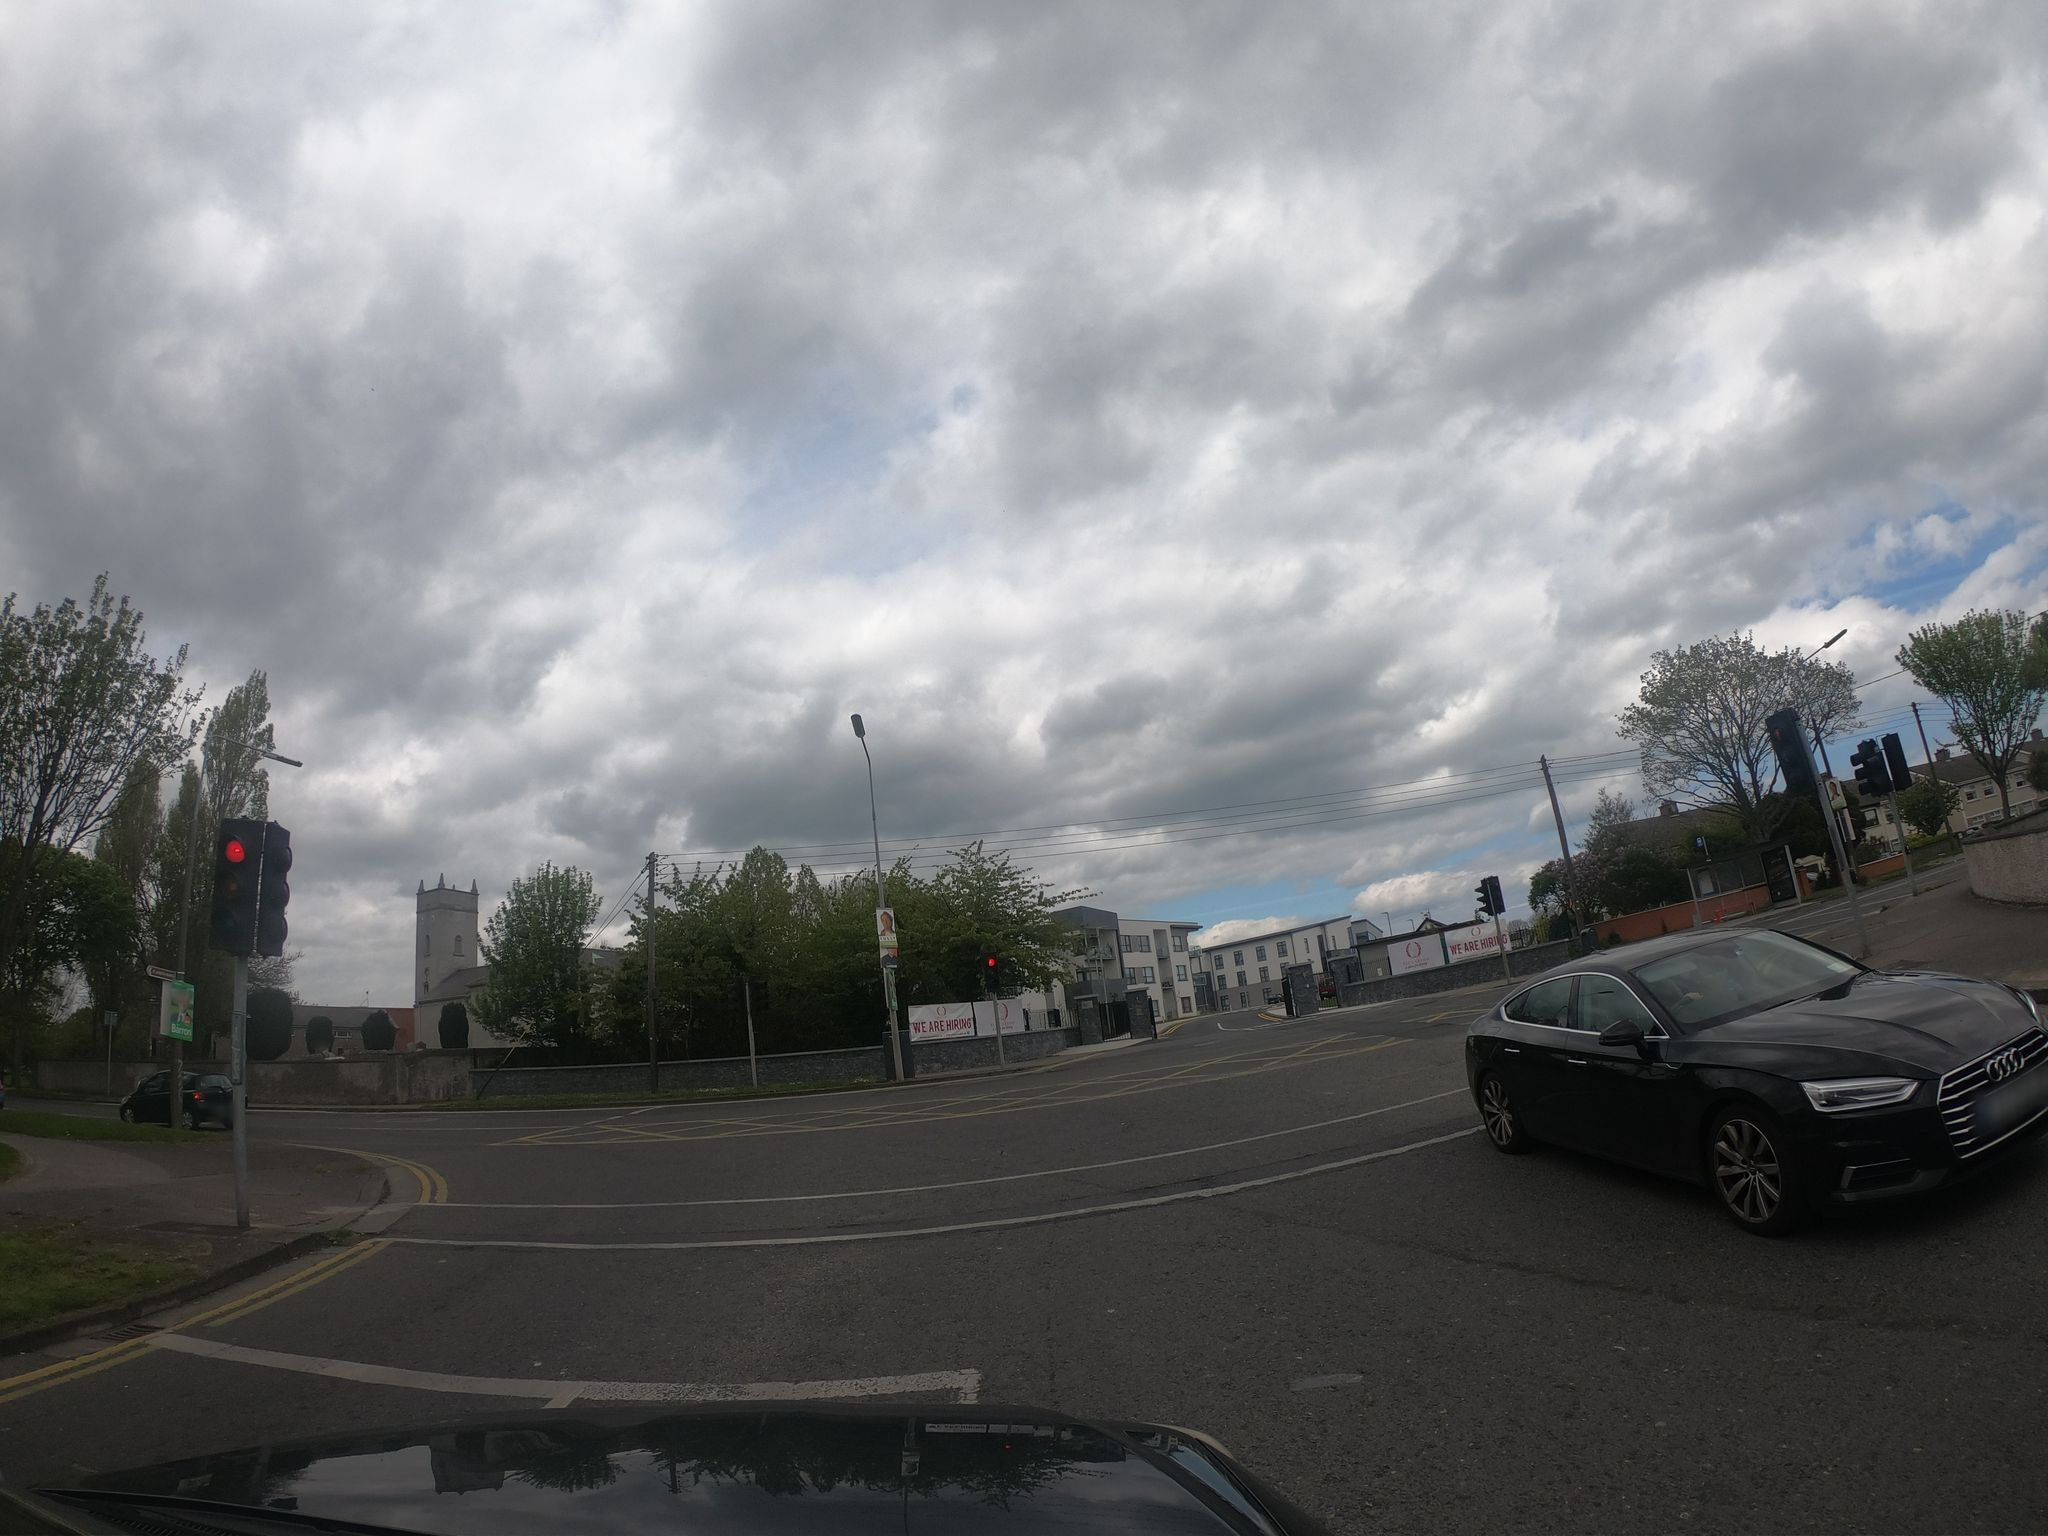vinyl banner: (1442, 899, 1534, 978), (903, 981, 993, 1050)
